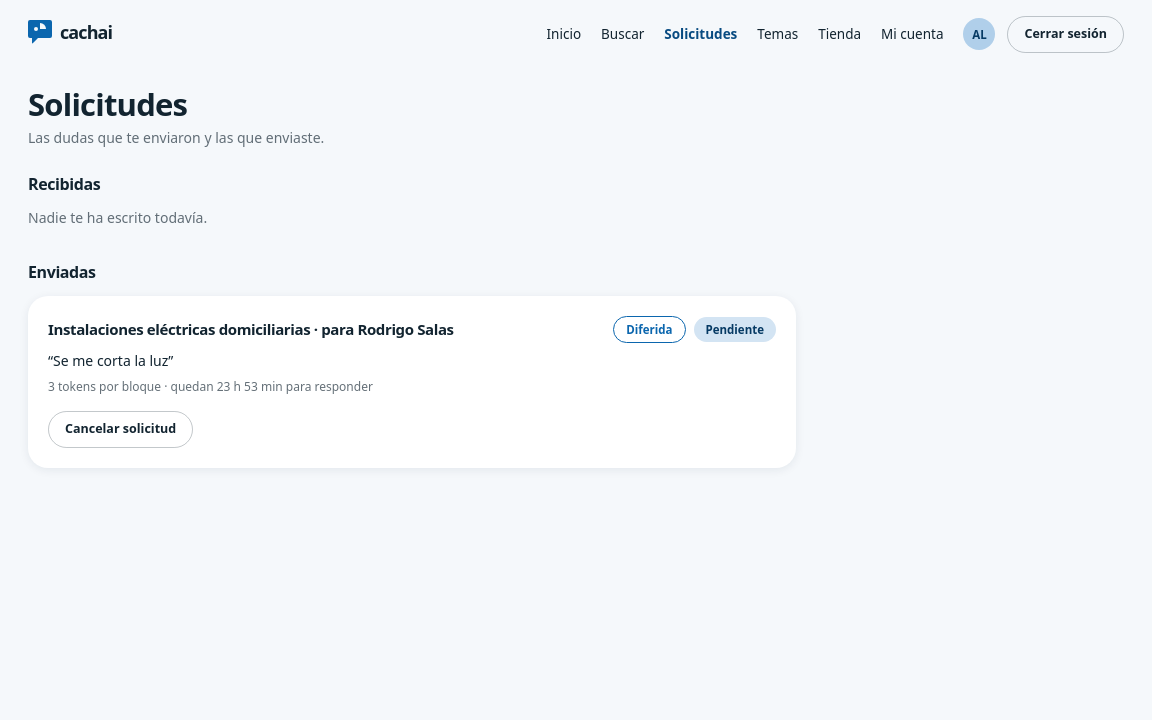
Test: solicitudes › el aprendiz puede cancelar una solicitud pendiente
The image size is (1152, 720).
Expected: the text "3 tokens por bloque · quedan 23 h 53 min para responder" is shown, [48,378,373,395]
What coordinates should you click on to do the following:
click the button "Cancelar solicitud"
I would click on:
 (121, 429)
Its box is [48,411,193,448].
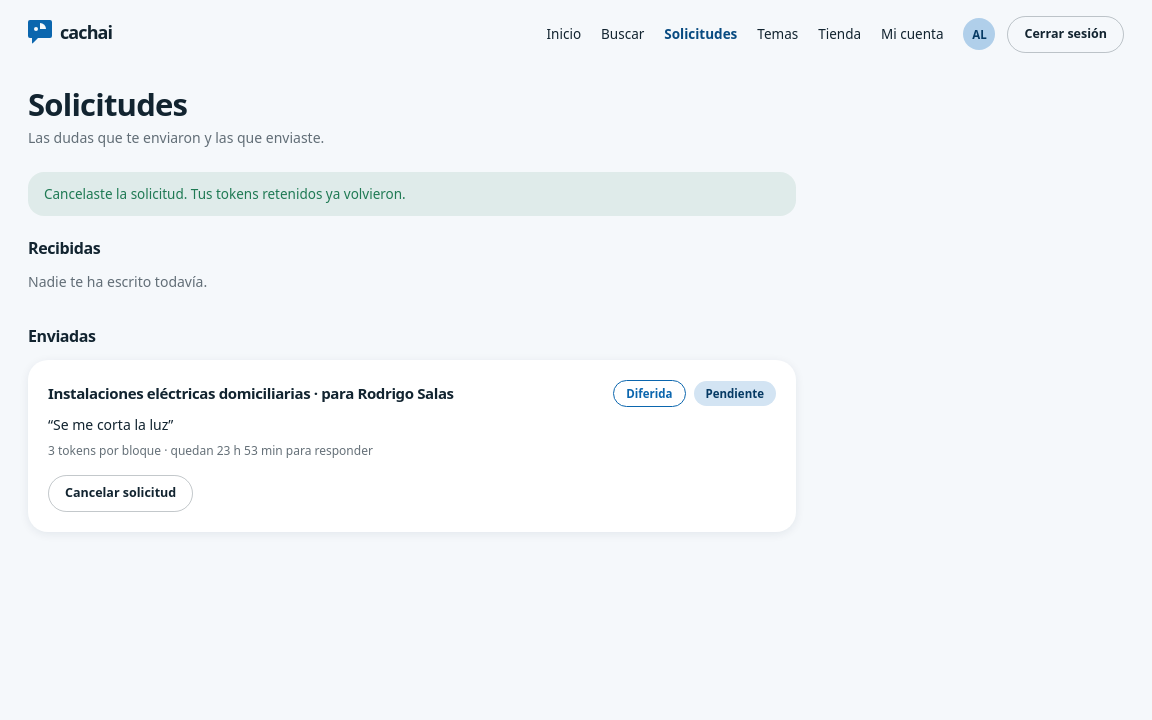
Now the text "Cancelaste la solicitud. Tus tokens retenidos ya volvieron." is shown, box [28,172,796,216]
